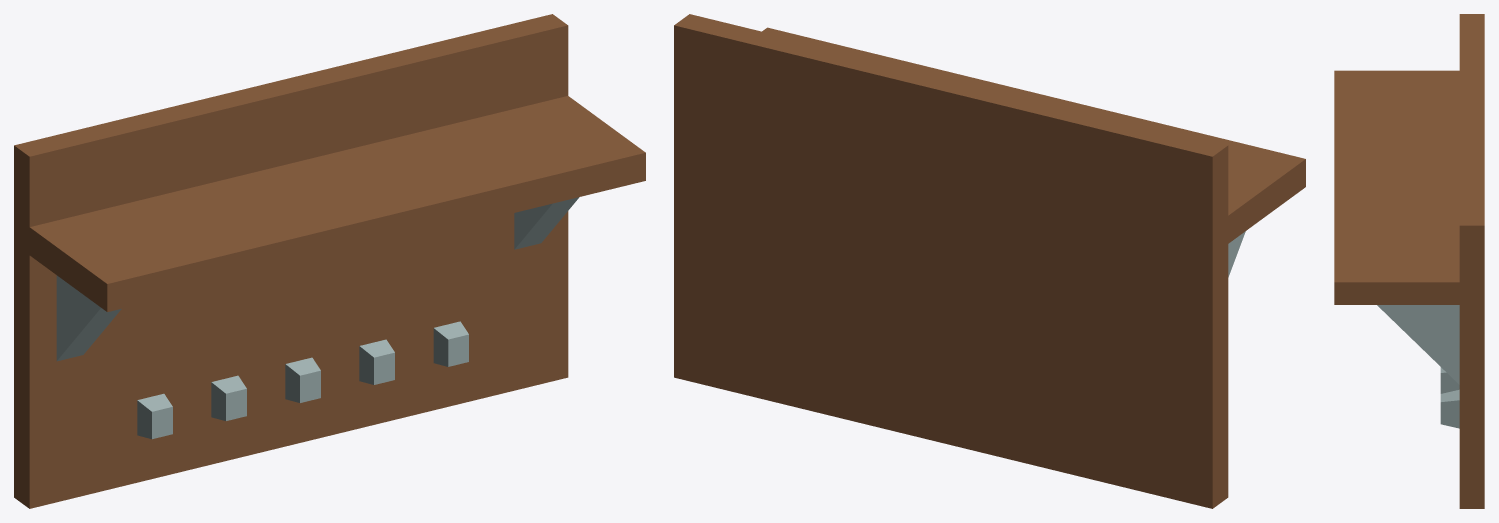
Rendered from m_coat_hooks.glb.
3 views of the same model, side by side, from view 1: azimuth 30°, elevation 25°; view 2: azimuth 150°, elevation 25°; view 3: azimuth 270°, elevation 25° (orthographic). The views are drawn at different scales.
Parts seen in each view (by area): view 1: coatRack(Clone); view 2: coatRack(Clone); view 3: coatRack(Clone).
Boxes of the visible parts, bbox=[...] form: coatRack(Clone): bbox=[14, 14, 645, 508]; coatRack(Clone): bbox=[674, 14, 1305, 508]; coatRack(Clone): bbox=[1334, 14, 1484, 508].
Bounding box in the file's own units: 0.64 × 0.4 × 0.192.
